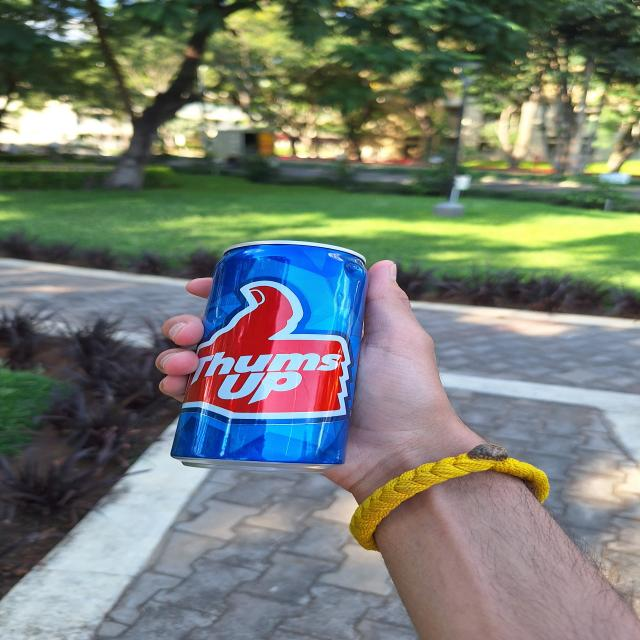Thums Up: (170, 245, 380, 468)
